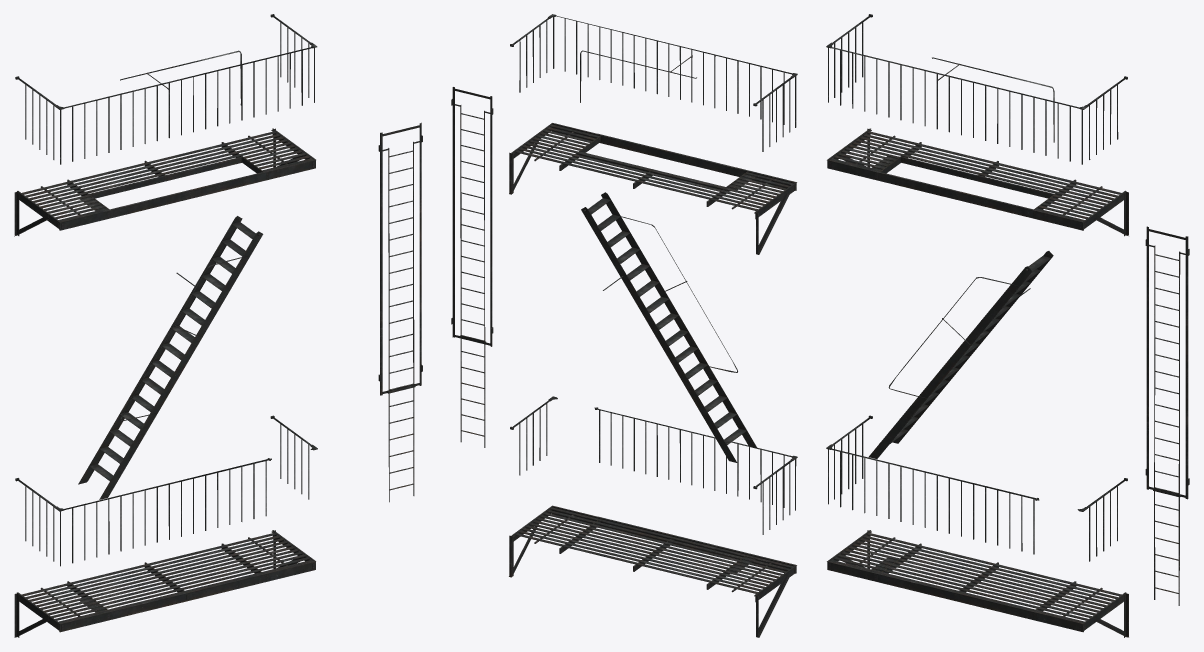
Rendered from modular-fire-escape.glb.
3 views of the same model, side by side, from view 1: azimuth 30°, elevation 25°; view 2: azimuth 150°, elevation 25°; view 3: azimuth 330°, elevation 25° (orthographic). The views are drawn at different scales.
Parts seen in each view (by area): view 1: modular_fire_escape_platform_middle, modular_fire_escape_railing_middle; view 2: modular_fire_escape_platform_middle, modular_fire_escape_railing_middle; view 3: modular_fire_escape_platform_middle, modular_fire_escape_railing_middle.
Boxes of the visible parts, box(x1,y1,x2,y2) form: modular_fire_escape_platform_middle: box(14, 128, 315, 637); modular_fire_escape_railing_middle: box(15, 14, 422, 566); modular_fire_escape_platform_middle: box(509, 123, 796, 637); modular_fire_escape_railing_middle: box(451, 14, 797, 534); modular_fire_escape_platform_middle: box(827, 128, 1128, 637); modular_fire_escape_railing_middle: box(826, 14, 1189, 605).
Bounding box in the file's own units: 6.66 × 9.76 × 1.42.
Materials: 2 (2 with a texture image).
